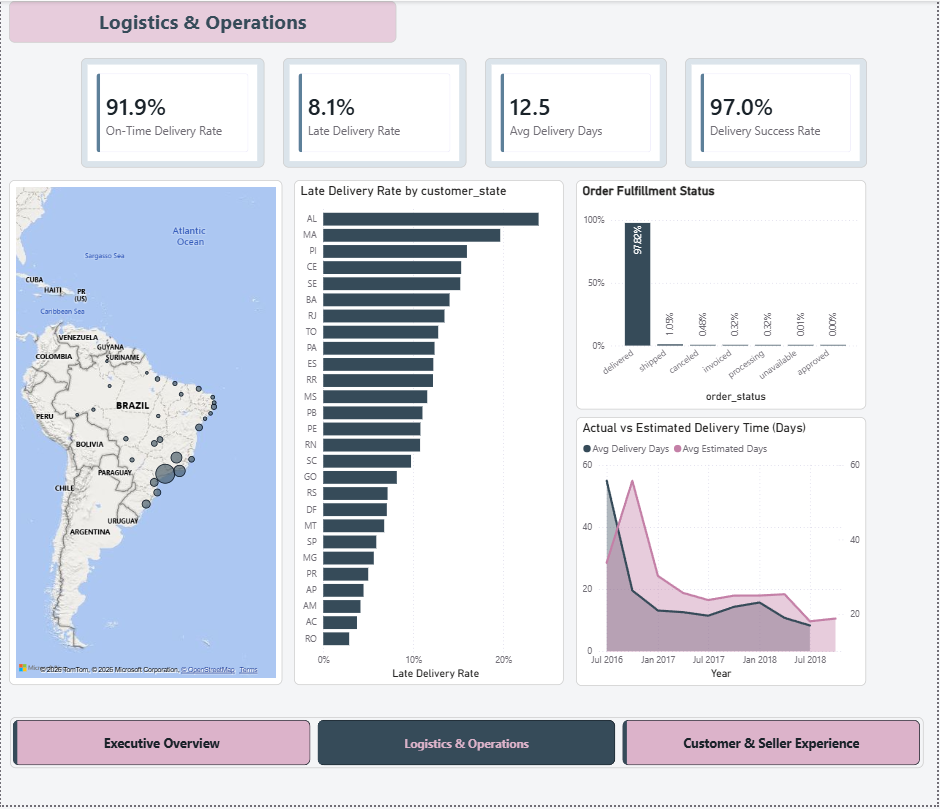

Layout of this report page (visuals, bound fields, positions):
{"tool":"powerbi","page":{"name":"Logistics & Operations","canvas":[1280,1100],"ordinal":1},"visuals":[{"type":"textbox","box":[10.7,0,530.4,56.7],"z":0},{"type":"cardVisual","fields":{"Data":["olist_orders_dataset.Avg Delivery Days"]},"box":[661.5,78,248.9,150.5],"z":1000},{"type":"cardVisual","fields":{"Data":["olist_orders_dataset.Late Delivery Rate"]},"box":[385.3,78,250.8,150.5],"z":2000},{"type":"cardVisual","fields":{"Data":["olist_orders_dataset.On-Time Delivery Rate"]},"box":[109.1,78,250.8,150.5],"z":3000},{"type":"cardVisual","fields":{"Data":["olist_orders_dataset.Delivery Success Rate"]},"box":[935.9,78,248.9,150.5],"z":4000},{"type":"map","fields":{"Size":["Count(olist_order_items_dataset.order_id)"],"Category":["olist_customers_dataset.Customer State Full Name"]},"box":[11.6,245.5,374,691.4],"z":5000},{"type":"clusteredBarChart","fields":{"Category":["olist_customers_dataset.customer_state"],"Y":["olist_orders_dataset.Late Delivery Rate"]},"box":[401,245.5,368.8,691.4],"z":6000},{"type":"columnChart","title":"Order Fulfillment Status","fields":{"Category":["olist_orders_dataset.order_status"],"Y":["CountNonNull(olist_order_items_dataset.order_id)"]},"box":[786.5,245.5,397.1,313.6],"z":7000},{"type":"areaChart","title":"Actual vs Estimated Delivery Time (Days)","fields":{"Category":["olist_orders_dataset.order_purchase_timestamp.Variation.Date Hierarchy.Year","olist_orders_dataset.order_purchase_timestamp.Variation.Date Hierarchy.Quarter","olist_orders_dataset.order_purchase_timestamp.Variation.Date Hierarchy.Month","olist_orders_dataset.order_purchase_timestamp.Variation.Date Hierarchy.Day"],"Y":["olist_orders_dataset.Avg Delivery Days"],"Y2":["olist_orders_dataset.Avg Estimated Days"]},"box":[786.5,569.3,397.1,367.6],"z":8000},{"type":"pageNavigator","box":[11.7,980,1250,70],"z":9000}]}

Visuals, with their boxes in screenshot pixels (x1, y1, x2, y2), scaled from the page's 1280x1100 canvas onto the 940x809 screenshot:
textbox: bbox(8, 0, 397, 42)
cardVisual - olist_orders_dataset.Avg Delivery Days: bbox(486, 57, 669, 168)
cardVisual - olist_orders_dataset.Late Delivery Rate: bbox(283, 57, 467, 168)
cardVisual - olist_orders_dataset.On-Time Delivery Rate: bbox(80, 57, 264, 168)
cardVisual - olist_orders_dataset.Delivery Success Rate: bbox(687, 57, 870, 168)
map - Count(olist_order_items_dataset.order_id) x olist_customers_dataset.Customer State Full Name: bbox(9, 181, 283, 689)
clusteredBarChart - olist_customers_dataset.customer_state x olist_orders_dataset.Late Delivery Rate: bbox(294, 181, 565, 689)
"Order Fulfillment Status" columnChart: bbox(578, 181, 869, 411)
"Actual vs Estimated Delivery Time (Days)" areaChart: bbox(578, 419, 869, 689)
pageNavigator: bbox(9, 721, 927, 772)
